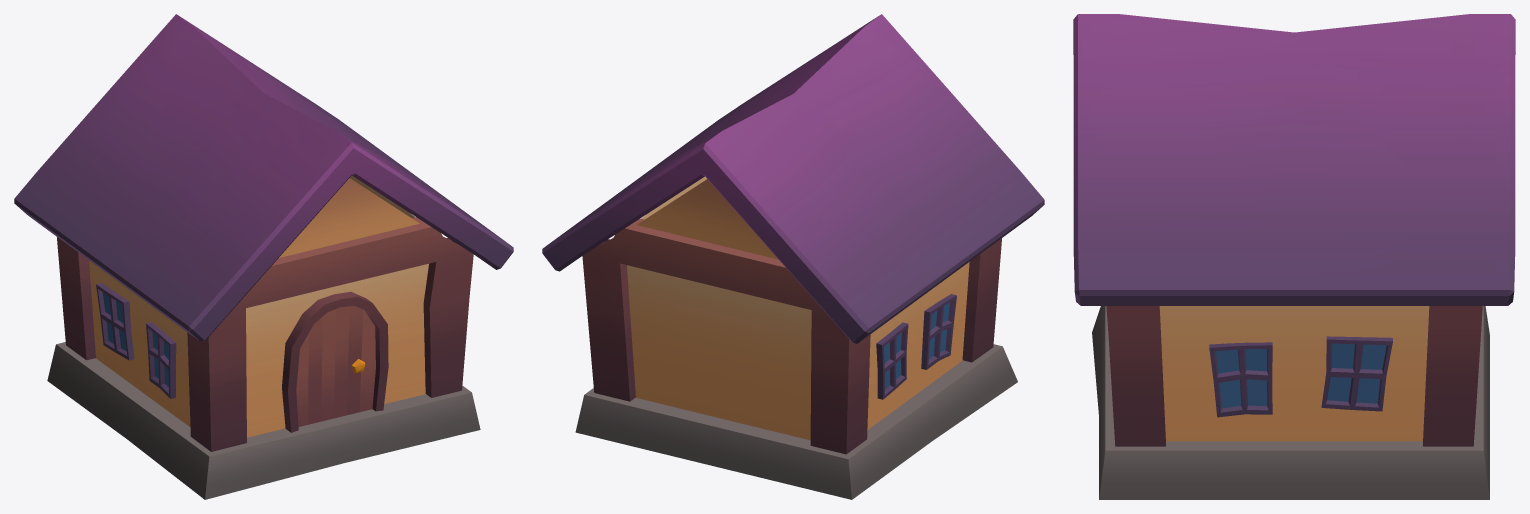
Rendered from House_Purple.obj.
3 renders of one model, left to right at view 1: azimuth 30°, elevation 25°; view 2: azimuth 150°, elevation 25°; view 3: azimuth 270°, elevation 25°, orthographic. The views are drawn at different scales.
Parts seen in each view (by area): view 1: {mesh}House_Purple_Sphere.001; view 2: {mesh}House_Purple_Sphere.001; view 3: {mesh}House_Purple_Sphere.001.
Part boxes in pixels (x1=…): {mesh}House_Purple_Sphere.001: x1=14, y1=14, x2=513, y2=499; {mesh}House_Purple_Sphere.001: x1=542, y1=14, x2=1044, y2=499; {mesh}House_Purple_Sphere.001: x1=1073, y1=14, x2=1515, y2=499.
Size of the model in its own units: 198 by 190 by 189.
